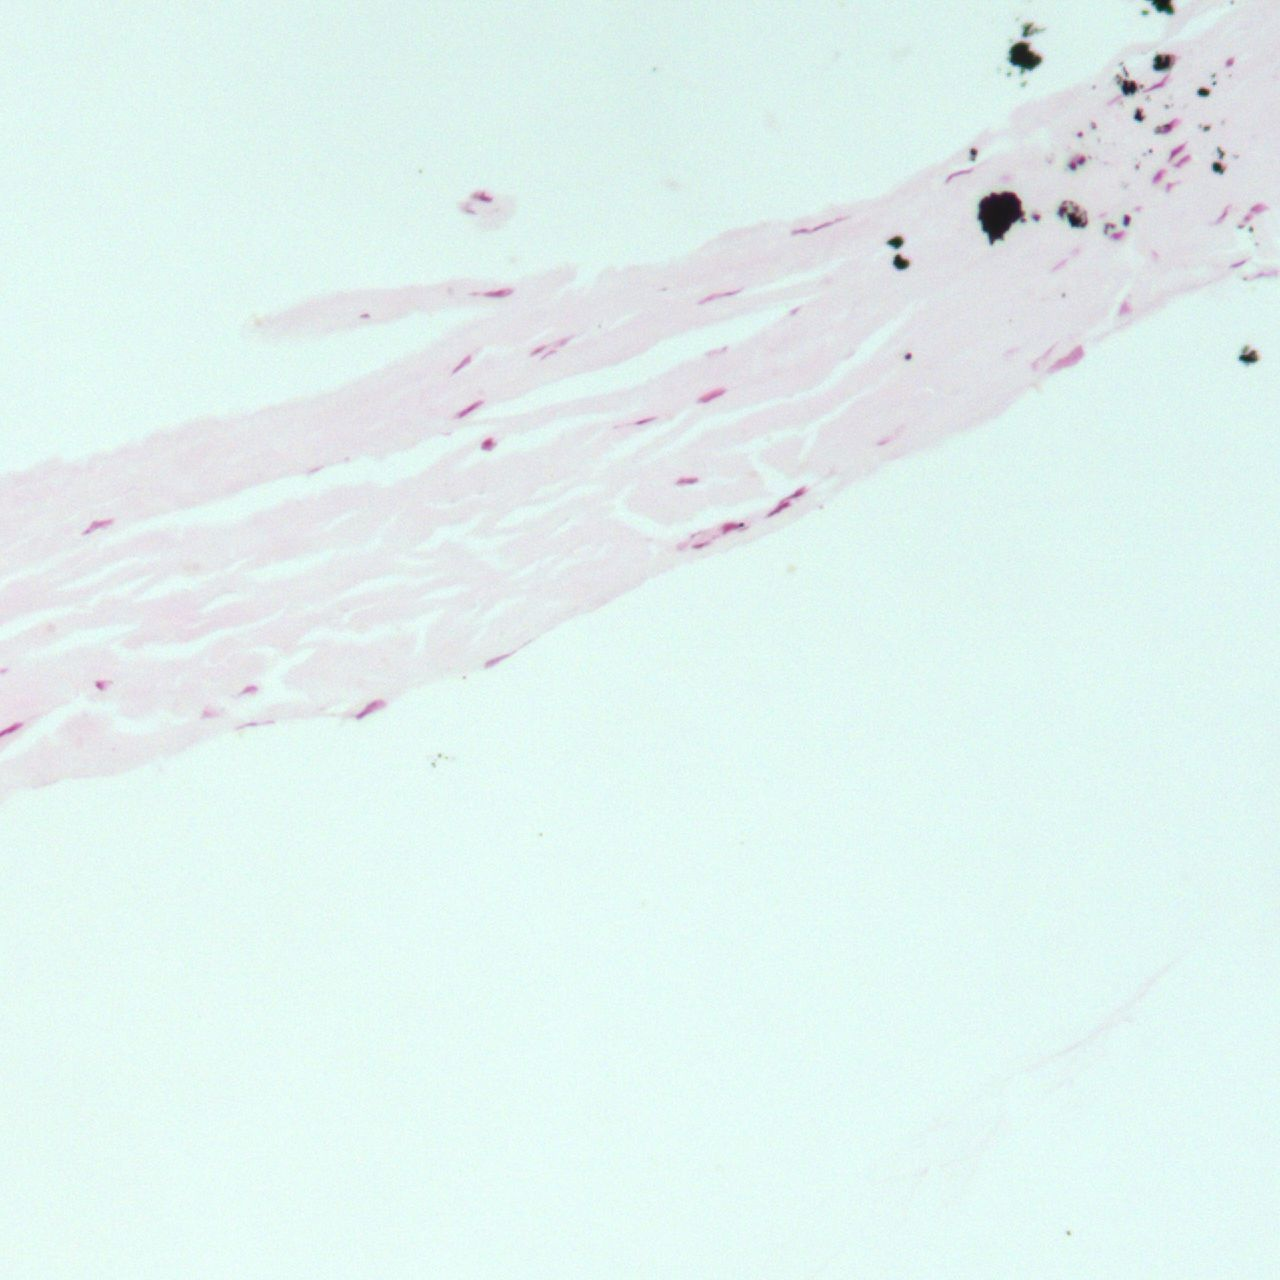dust: (974, 188, 1028, 248), (1003, 41, 1042, 72), (1056, 198, 1088, 229), (1235, 343, 1260, 366), (1017, 20, 1037, 39), (1153, 54, 1175, 72), (1121, 79, 1138, 96), (892, 253, 910, 268), (887, 234, 905, 250), (1211, 161, 1225, 173), (1197, 86, 1211, 98), (1133, 109, 1145, 123), (968, 147, 978, 161), (1217, 147, 1226, 159), (1090, 121, 1098, 130), (1133, 162, 1141, 171), (904, 352, 911, 360), (1210, 72, 1216, 79), (1248, 226, 1254, 233), (1060, 292, 1065, 299), (1162, 103, 1167, 109), (1203, 125, 1210, 130), (1148, 147, 1152, 154), (1212, 80, 1217, 87), (738, 523, 744, 527), (1091, 86, 1096, 90)
nucleus-AC: (1047, 343, 1087, 379), (789, 215, 847, 238), (352, 694, 387, 726), (697, 285, 741, 305), (1029, 341, 1058, 370), (80, 515, 114, 537), (1143, 72, 1173, 96), (455, 397, 485, 420), (942, 164, 975, 183), (483, 649, 513, 669), (1164, 138, 1189, 163), (697, 384, 726, 406), (234, 719, 274, 731), (1159, 115, 1182, 137), (450, 354, 472, 375), (236, 681, 259, 700), (1048, 256, 1071, 274), (765, 501, 790, 518), (1214, 204, 1233, 225), (784, 485, 806, 503), (467, 189, 492, 203), (1150, 166, 1167, 186), (706, 343, 729, 358), (1173, 152, 1192, 170), (481, 288, 515, 298), (635, 414, 658, 427), (1118, 298, 1133, 316), (1228, 257, 1250, 270), (481, 437, 497, 452), (531, 342, 547, 358), (1250, 200, 1267, 215), (540, 347, 557, 361), (557, 333, 573, 347), (1005, 343, 1022, 356), (200, 708, 222, 719), (721, 522, 738, 533), (674, 477, 697, 485), (95, 680, 111, 690), (1121, 213, 1132, 227), (693, 540, 708, 551), (458, 206, 476, 215), (1110, 231, 1125, 240), (1067, 159, 1077, 171), (877, 437, 888, 447), (1224, 57, 1235, 67), (309, 465, 322, 474), (789, 307, 799, 316), (1164, 181, 1175, 190), (1076, 155, 1085, 165), (1032, 211, 1040, 223), (1242, 215, 1252, 222), (1235, 223, 1245, 230), (1151, 250, 1159, 257), (360, 313, 372, 318), (1076, 132, 1083, 138)
